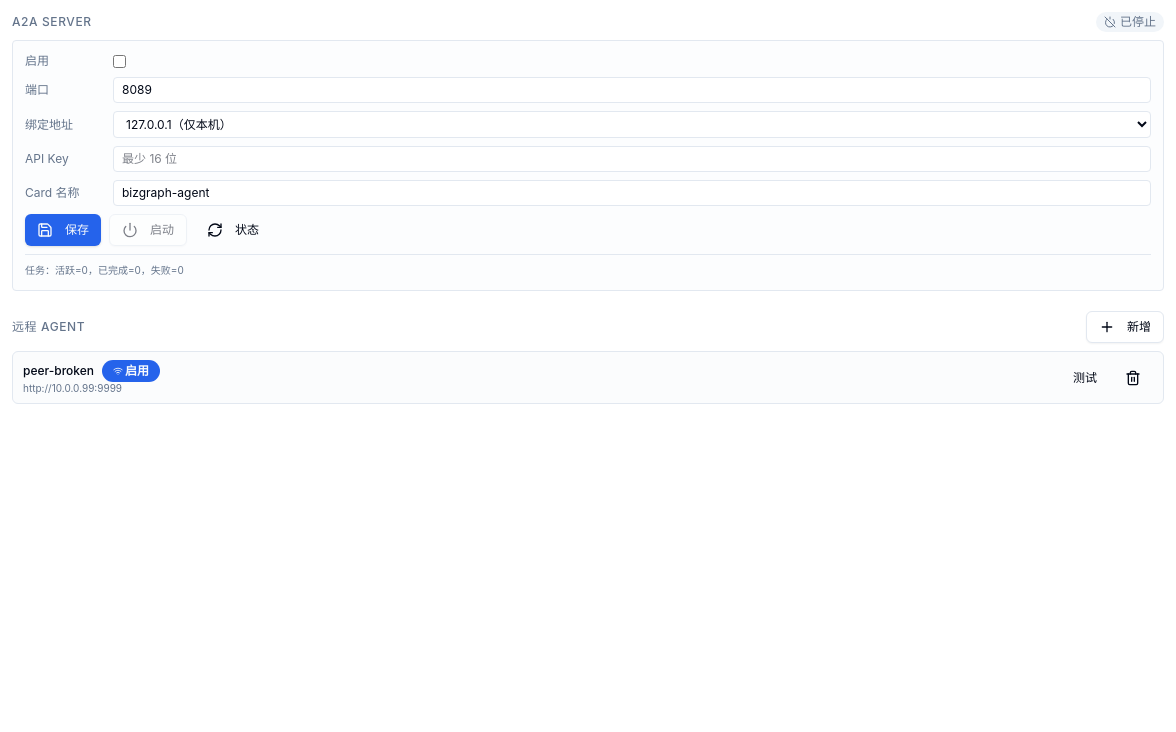
Test case: A2ASettingsTab › shows error toast when testConnection returns ok=false
The width and height of the screenshot is (1176, 732).
expect the text "peer-broken" is shown: met, box [23, 363, 94, 379]
Click the button "测试".
click(1085, 378)  # box [1061, 362, 1109, 394]
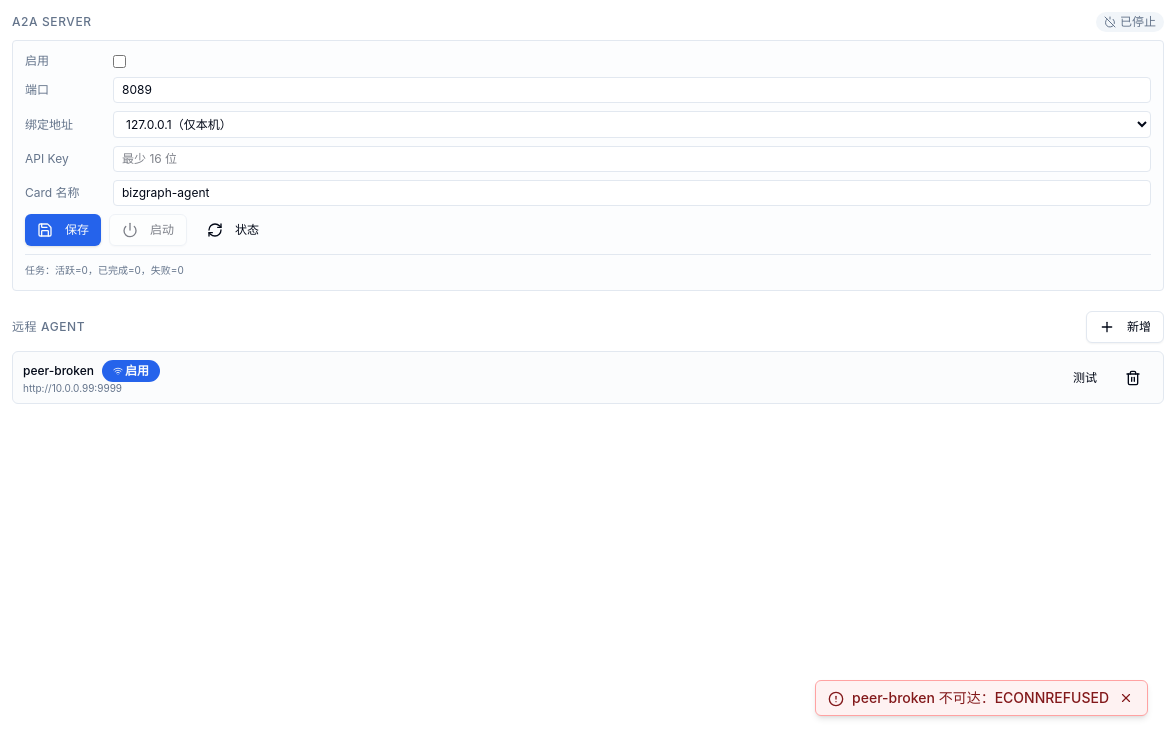
expect the message "peer-broken 不可达：ECONNREFUSED" is shown: met, box [815, 680, 1148, 716]
expect the text "peer-broken 不可达：ECONNREFUSED" is shown: met, box [852, 689, 1109, 706]
